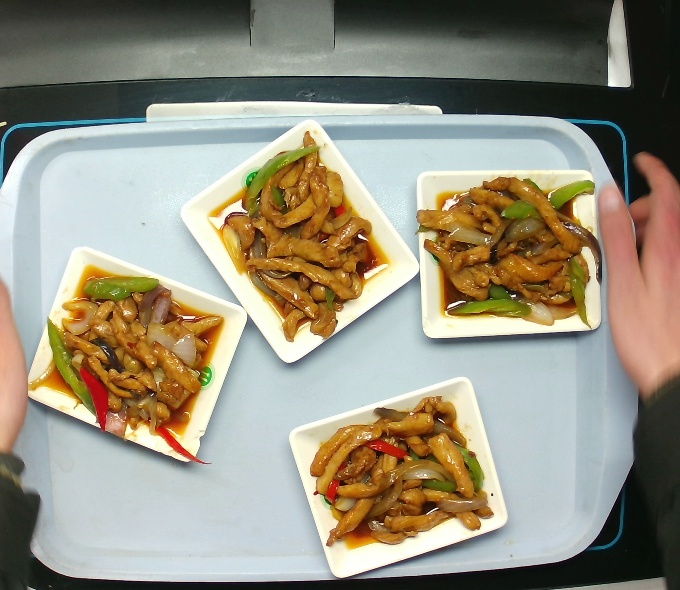wcq-YangCongChaoJiLiu: (16, 255, 234, 471), (202, 127, 401, 350), (301, 392, 501, 557), (408, 171, 603, 338)
